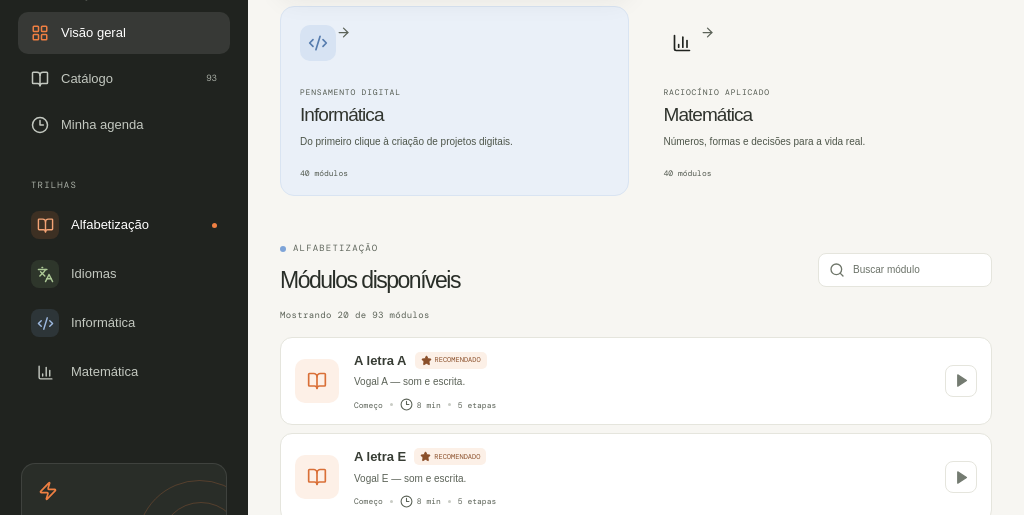
painel inicial › busca em todas as trilhas
(page scrolled)
Check: the button "A letra A" is shown, box [354, 350, 406, 370]
In the search field labelled "Buscar módulo": [917, 270] box [853, 262, 981, 277], type "porcentagem"
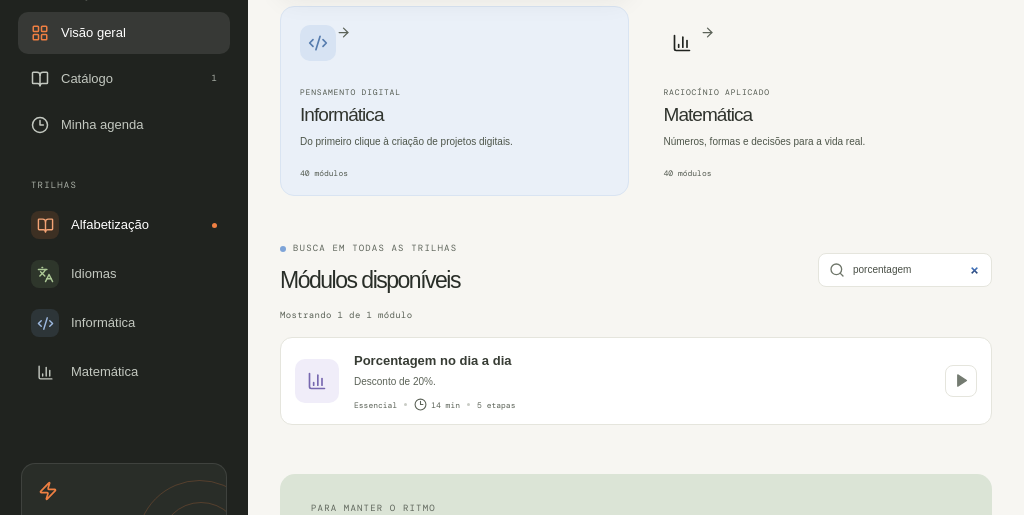
Check: the button "Porcentagem no dia a dia" is shown, box [354, 350, 512, 370]
Check: the text "Mostrando 1 de 1 módulo" is shown, box [280, 309, 412, 321]
